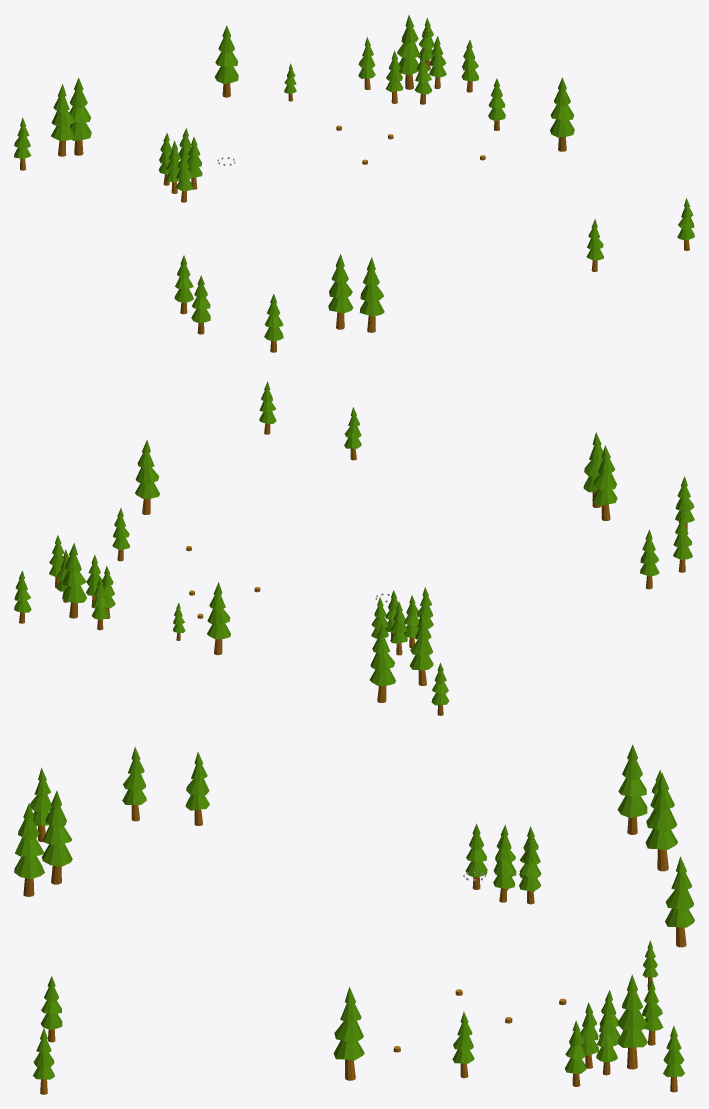
File: pino.glb
3 views of the same model, one above another, from view 1: azimuth 30°, elevation 25°; view 2: azimuth 150°, elevation 25°; view 3: azimuth 270°, elevation 25° (orthographic). The views are drawn at different scales.
Parts seen in each view (by area): view 1: Pinos; view 2: Pinos; view 3: Pinos.
Part boxes in pixels (x1=…): Pinos: x1=14, y1=15, x2=694, y2=352; Pinos: x1=14, y1=381, x2=694, y2=715; Pinos: x1=14, y1=744, x2=694, y2=1094.
Size of the model in its own units: 39.14 by 7.29 by 39.58.
